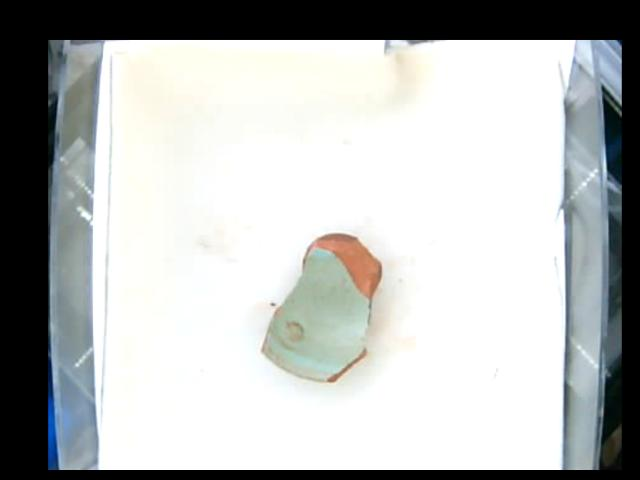China: (260, 229, 378, 380)
